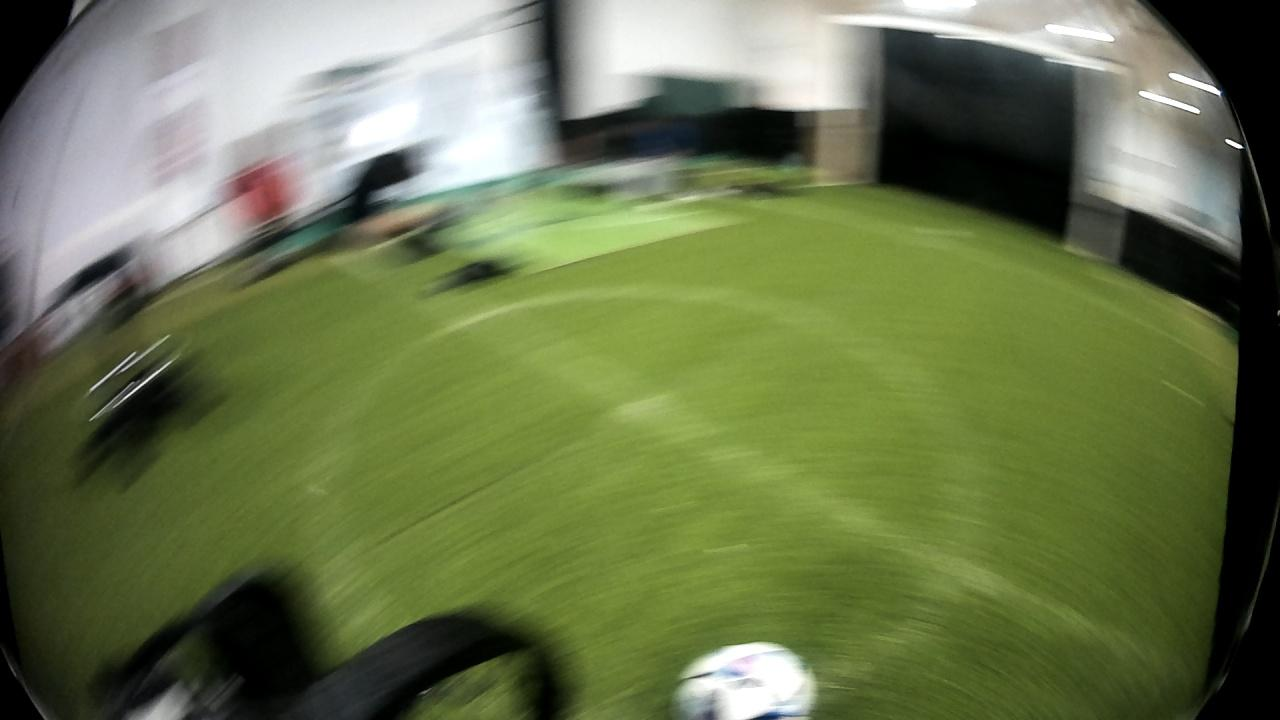ball: (667, 637, 824, 719)
